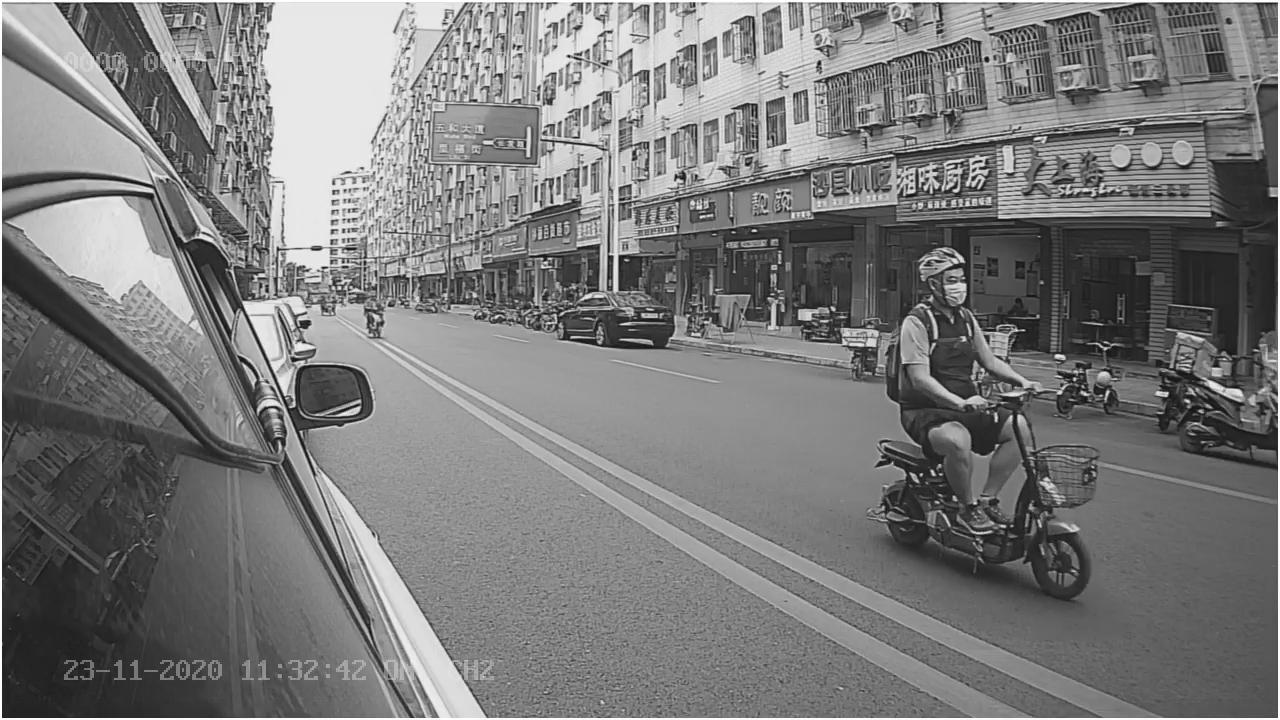person: (898, 237, 1035, 405)
